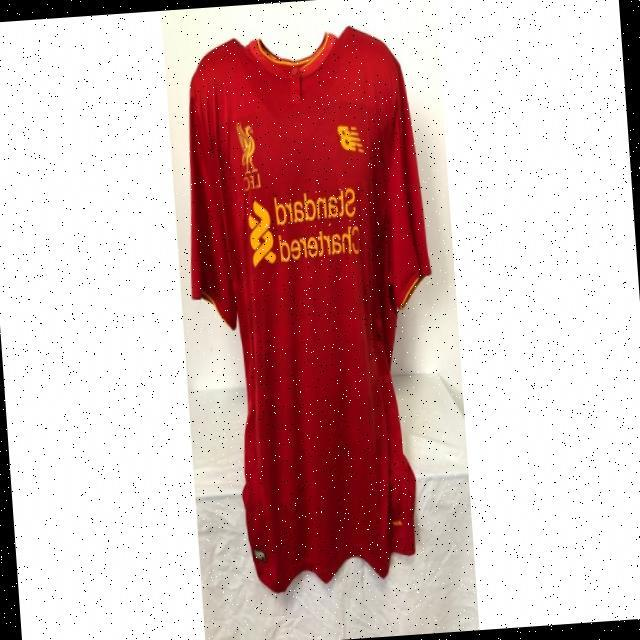Standard Chartered: (246, 187, 361, 267)
